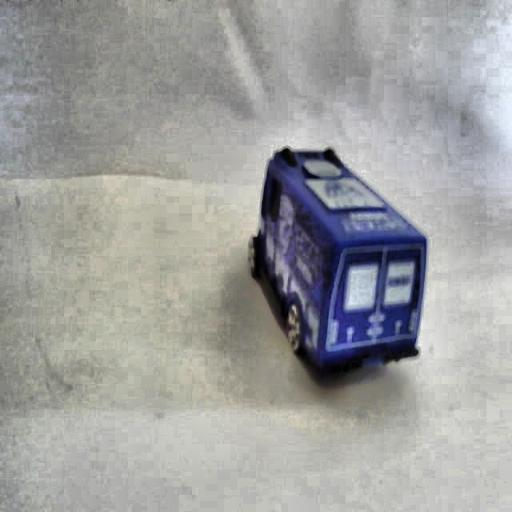police car: (243, 129, 433, 385)
